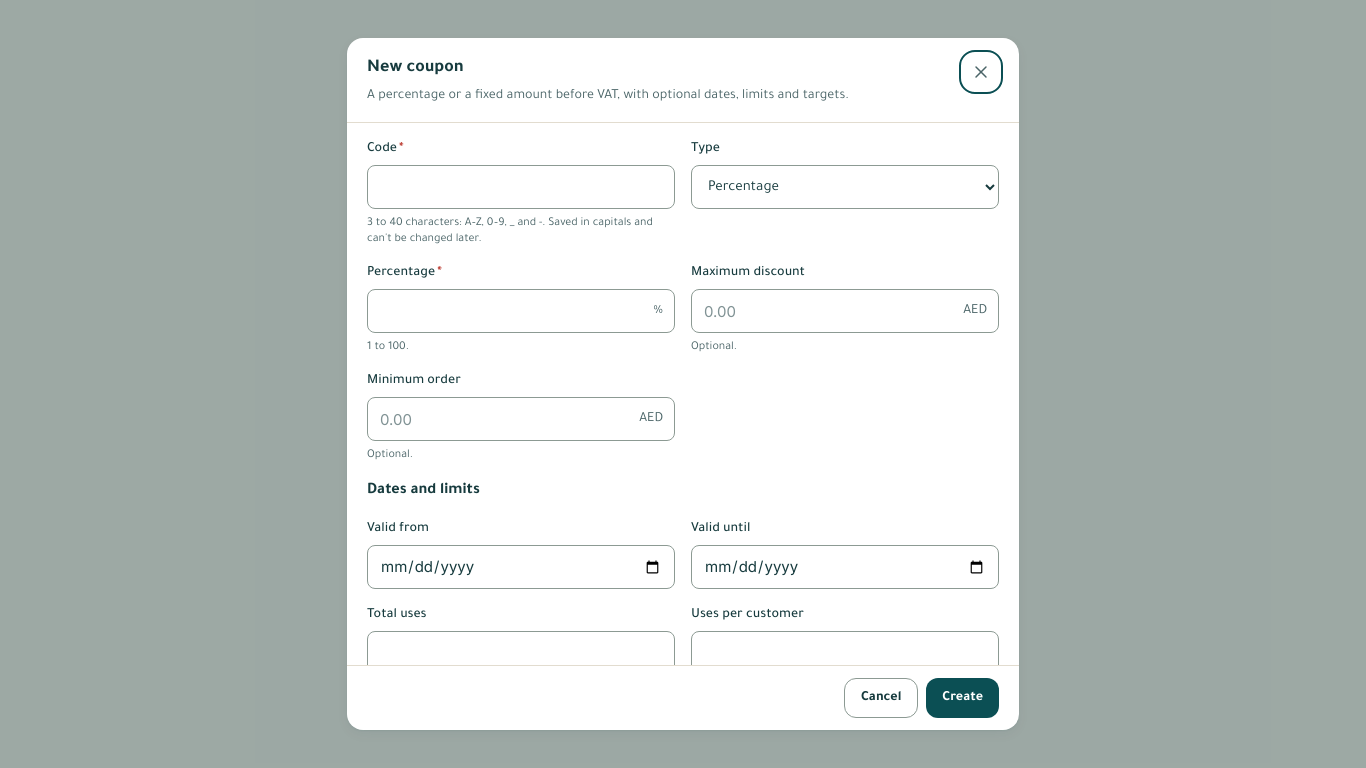
it: A11 coupons › mirrors the API rules: code length and percent 1..100
Type "ab" into the field labelled "Code*".
click(521, 187); type("ab")  # box [367, 165, 675, 209]
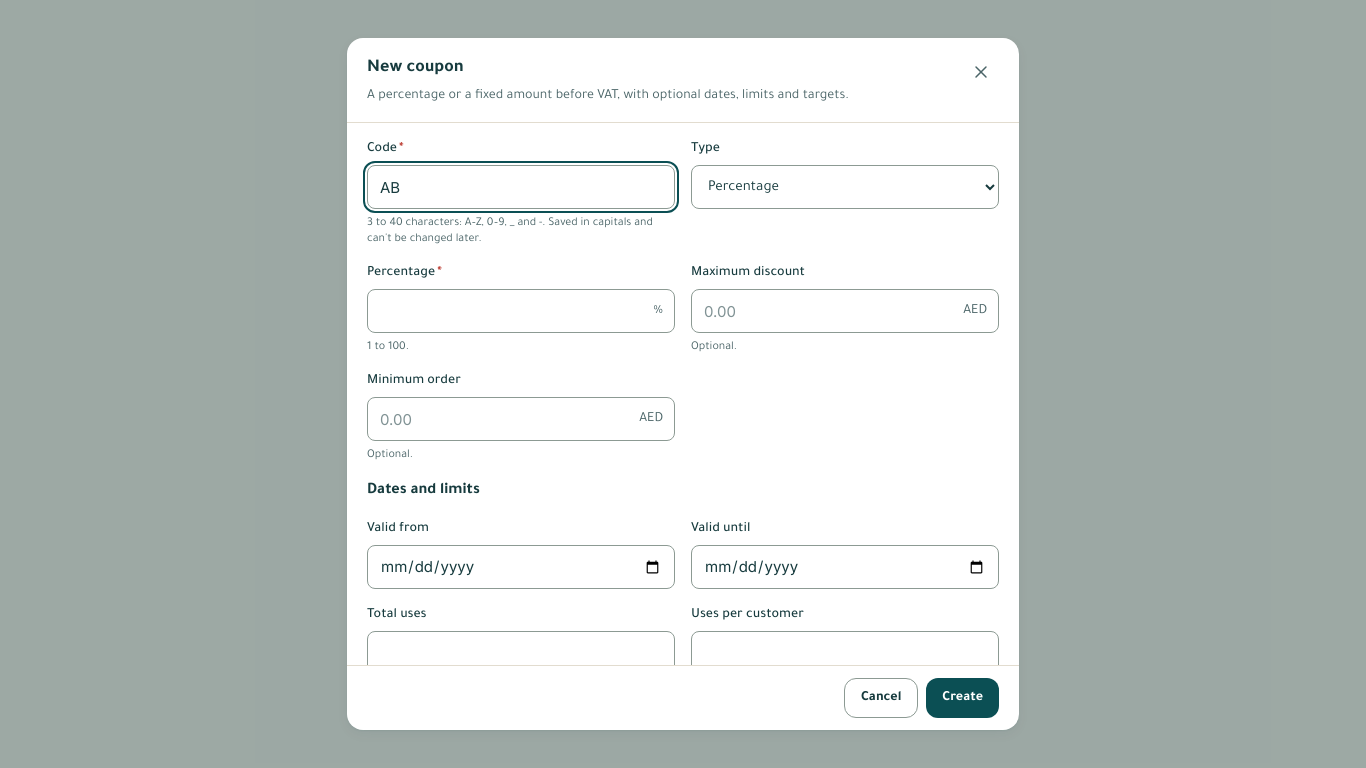
Type "101" into the field labelled "Percentage*".
click(521, 311); type("101")  # box [367, 289, 675, 333]
(page scrolled)
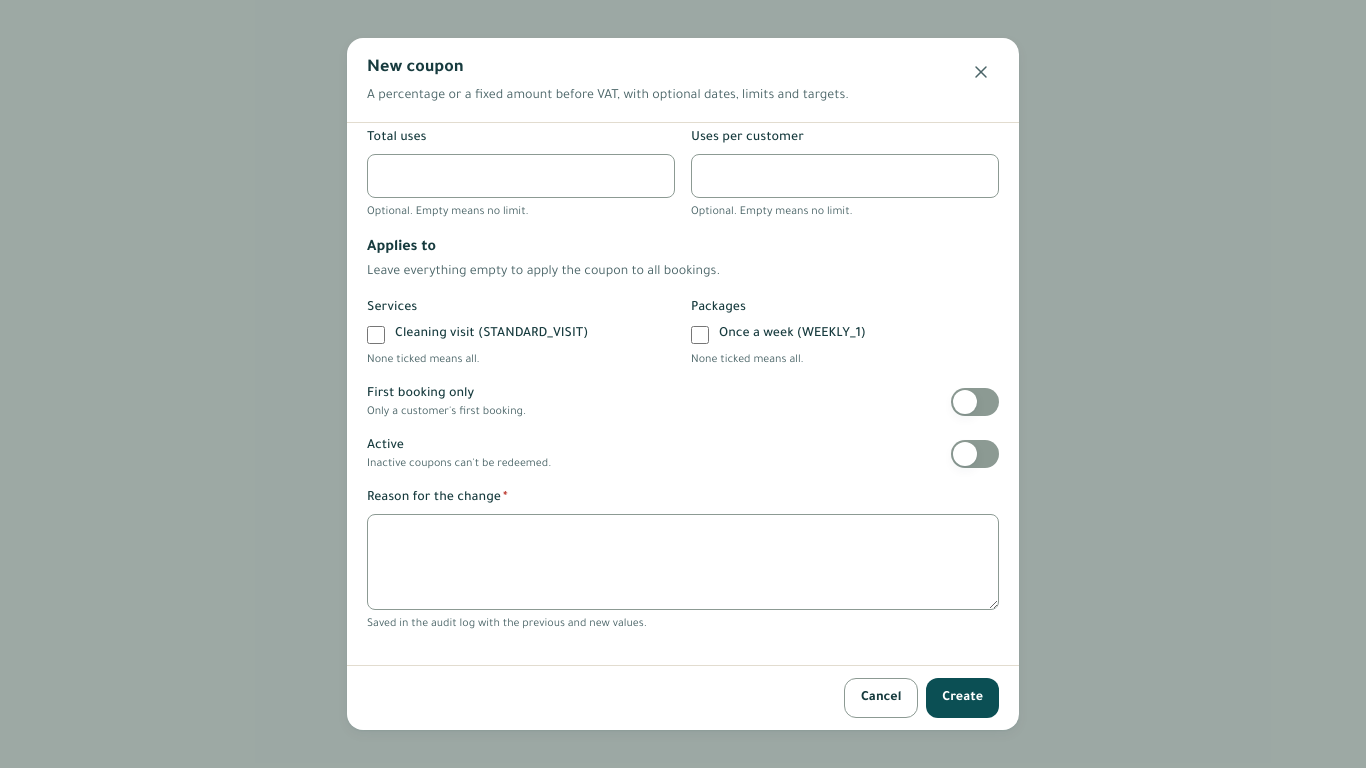
Type "x" into the text box labelled "Reason for the change*".
click(683, 562); type("x")  # box [367, 514, 999, 610]
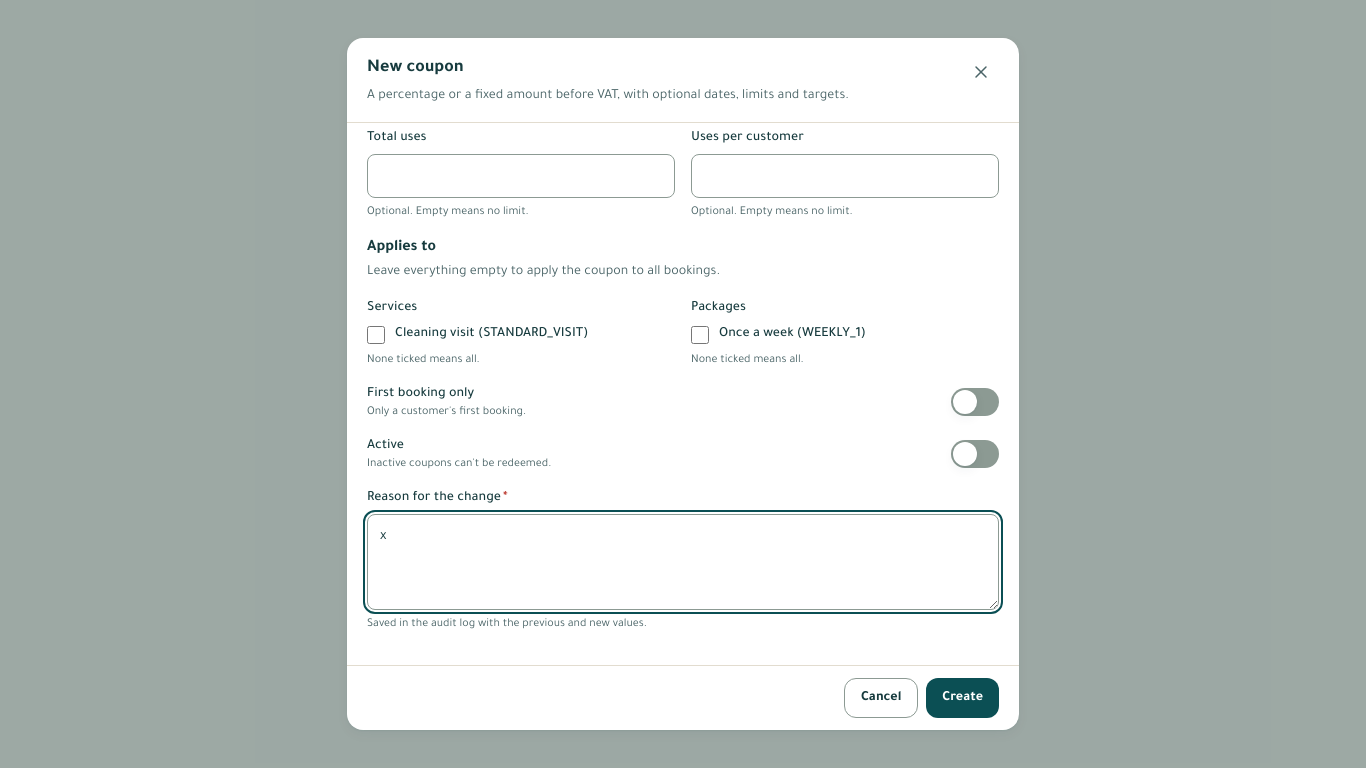
Click the button "Create".
click(963, 698)  # box [926, 678, 999, 718]
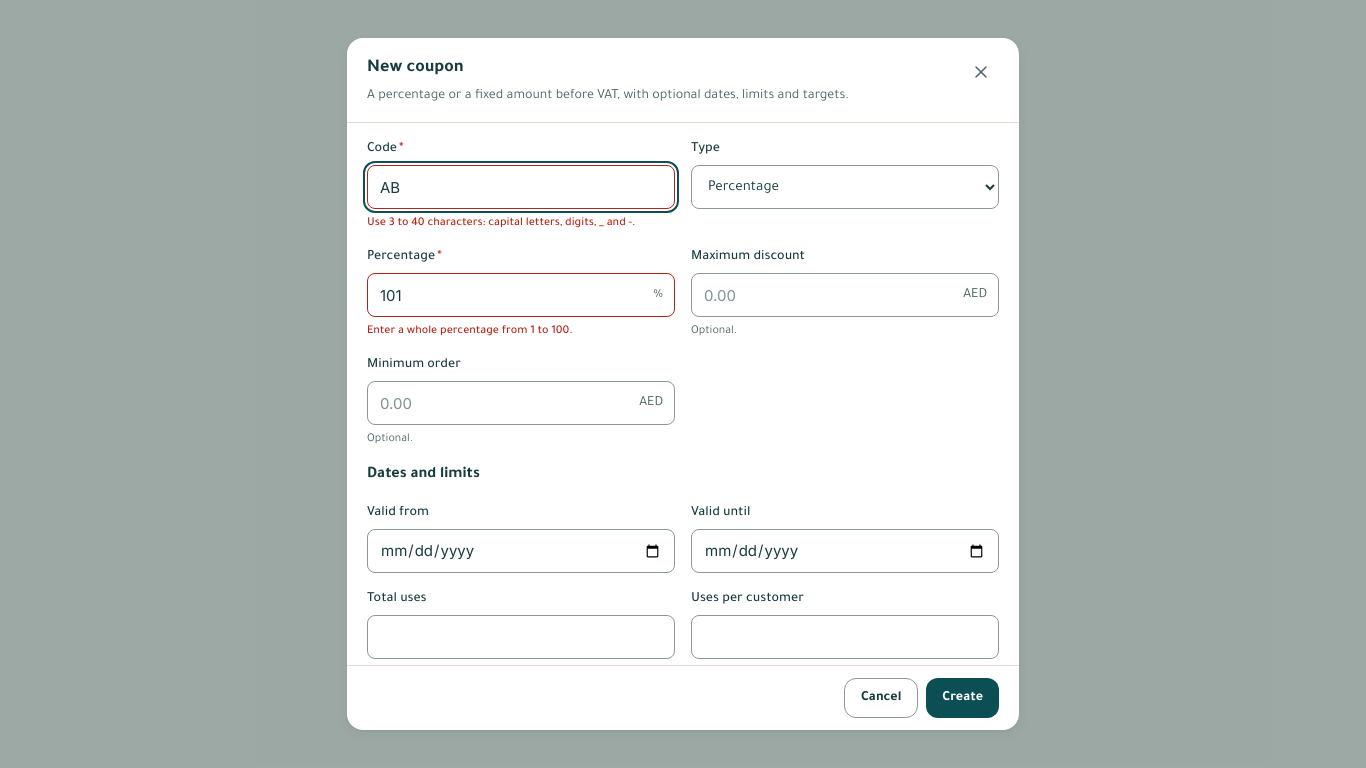
Check: the text "Use 3 to 40 characters: capital letters, digits, _ and -." is shown, box [367, 215, 675, 231]
Check: the text "Enter a whole percentage from 1 to 100." is shown, box [367, 325, 573, 337]
